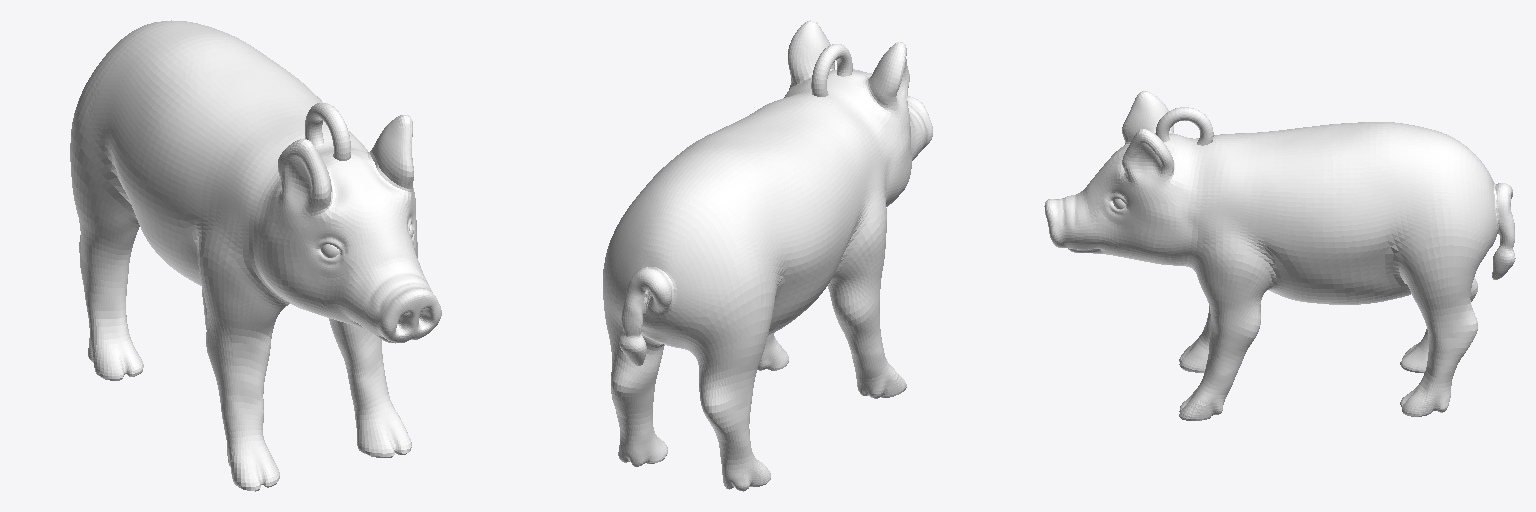
URDF robot description (simple_pig0.obj):
<robot name="simple_pig0.obj">
	<link name="_name">
		<visual>
			<origin xyz="0 0 0" rpy="0 0 0" />
			<geometry>
				<mesh filename="simple_pig0.obj" scale="1.0 1.0 1.0" />
			</geometry>
			<material name="texture">
				<color rgba="1.0 1.0 1.0 1.0" />
			</material>
		</visual>
		<collision>
			<geometry>
				<mesh filename="simple_pig0_vhacd.obj" scale="1.0 1.0 1.0" />
			</geometry>
		</collision>
		<inertial>
			<mass value="1.0" />
			<inertia ixx="1.0" ixy="0.0" ixz="0.0" iyy="1.0" iyz="0.0" izz="1.0" />
		</inertial>
	</link>
</robot>

--- Render facts (derived) ---
3 views of the same robot in one strip: view 1: azimuth 30°, elevation 25°; view 2: azimuth 150°, elevation 25°; view 3: azimuth 270°, elevation 25° (orthographic).
Robot: simple_pig0.obj — 1 links, 0 joints (none); root link _name; default pose: every joint at zero.
Visible links, largest first — view 1: _name; view 2: _name; view 3: _name.
Boxes of the visible links, x1,y1,x2,y2 form: _name: (70,20,441,491); _name: (603,20,932,491); _name: (1044,91,1515,420).
Size in the robot's own frame: 2.41 by 6.95 by 4.61 metres.
1 mesh visuals loaded from 1 distinct referenced files (1 OBJ).